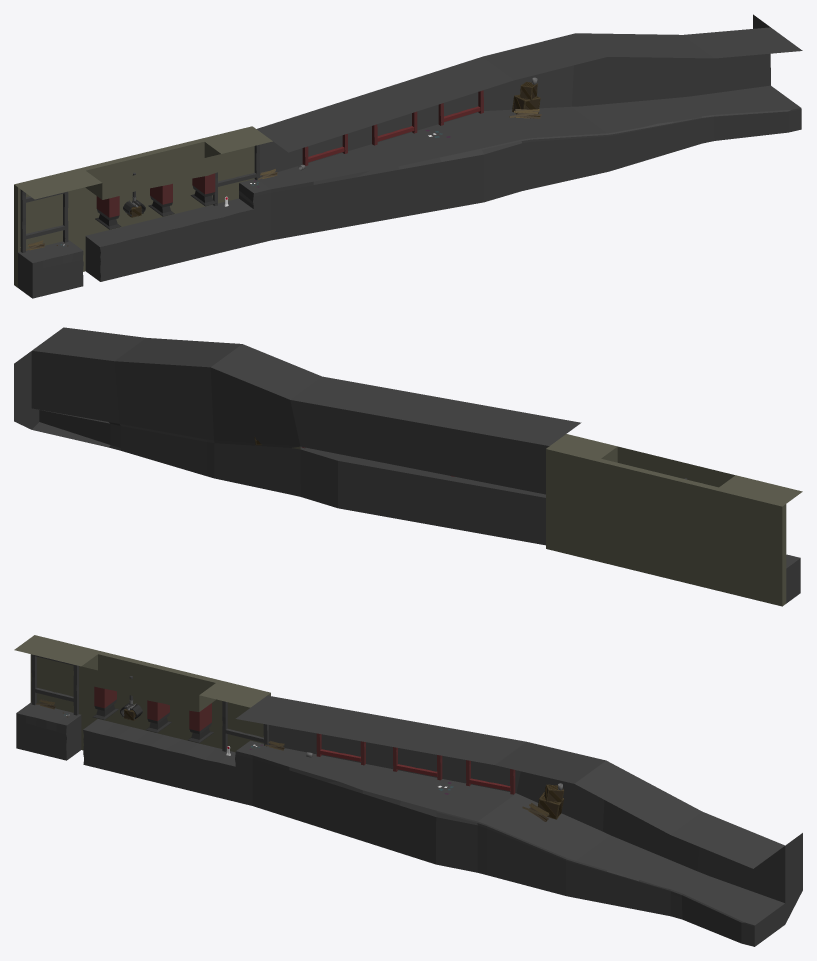
Rendered from clown_mec2.fbx.
3 renders of one model, top to bottom at view 1: azimuth 30°, elevation 25°; view 2: azimuth 150°, elevation 25°; view 3: azimuth 330°, elevation 25°, orthographic.
Visible parts, largest first — view 1: Cube.001, ลูกบาศก์, ลูกบาศก์.002, ลูกบาศก์.001; view 2: Cube.001; view 3: Cube.001, ลูกบาศก์.002, ลูกบาศก์, ลูกบาศก์.001.
Boxes of the visible parts, x1,y1,x2,y2 form: Cube.001: [14, 14, 802, 298]; ลูกบาศก์: [95, 196, 121, 229]; ลูกบาศก์.002: [190, 173, 216, 206]; ลูกบาศก์.001: [148, 183, 174, 216]; Cube.001: [14, 327, 802, 606]; Cube.001: [14, 635, 802, 946]; ลูกบาศก์.002: [187, 703, 213, 743]; ลูกบาศก์: [93, 686, 118, 719]; ลูกบาศก์.001: [146, 700, 171, 732].
Size of the model in its own units: 446 by 64.28 by 54.9.
